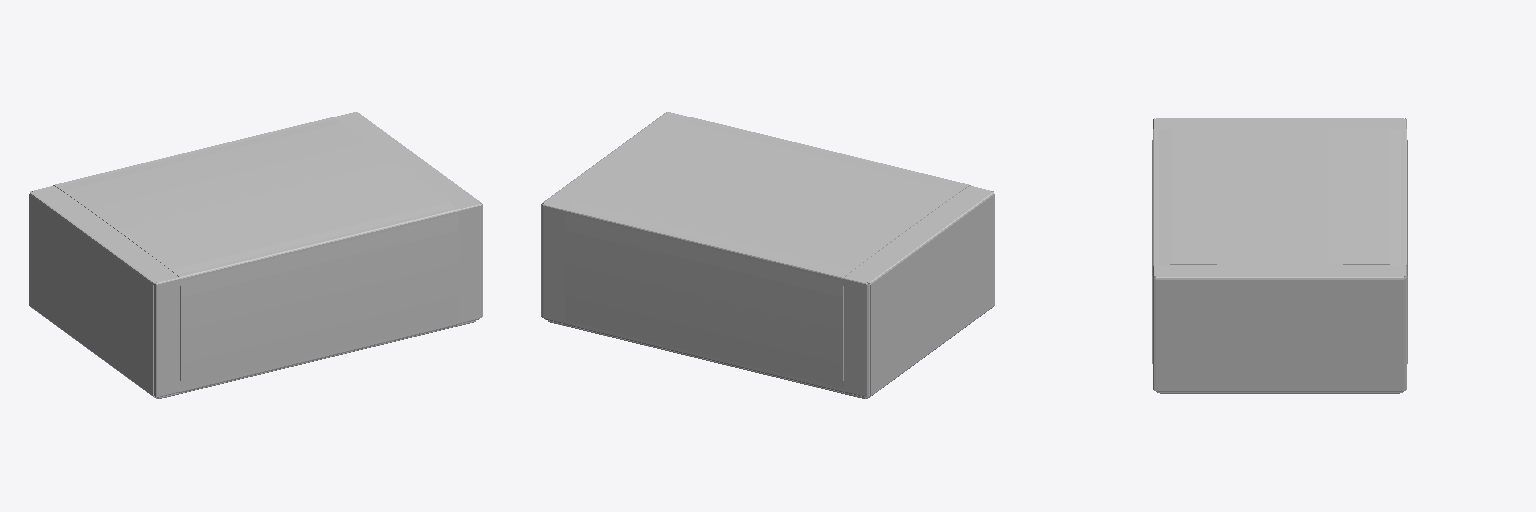
The model's file is chocolate-box-007.obj.
3 renders of one model, left to right at view 1: azimuth 30°, elevation 25°; view 2: azimuth 150°, elevation 25°; view 3: azimuth 270°, elevation 25°, orthographic.
Visible parts, largest first — view 1: label (2), lid; view 2: label (2), lid; view 3: label (2), lid.
Boxes of the visible parts, <box> form: label (2): <box>53,117,458,392</box>; lid: <box>29,112,482,397</box>; label (2): <box>565,117,970,392</box>; lid: <box>541,112,994,397</box>; label (2): <box>1152,128,1407,363</box>; lid: <box>1153,118,1406,391</box>.
Bounding box in the file's own units: 0.15 × 0.0524 × 0.1009.